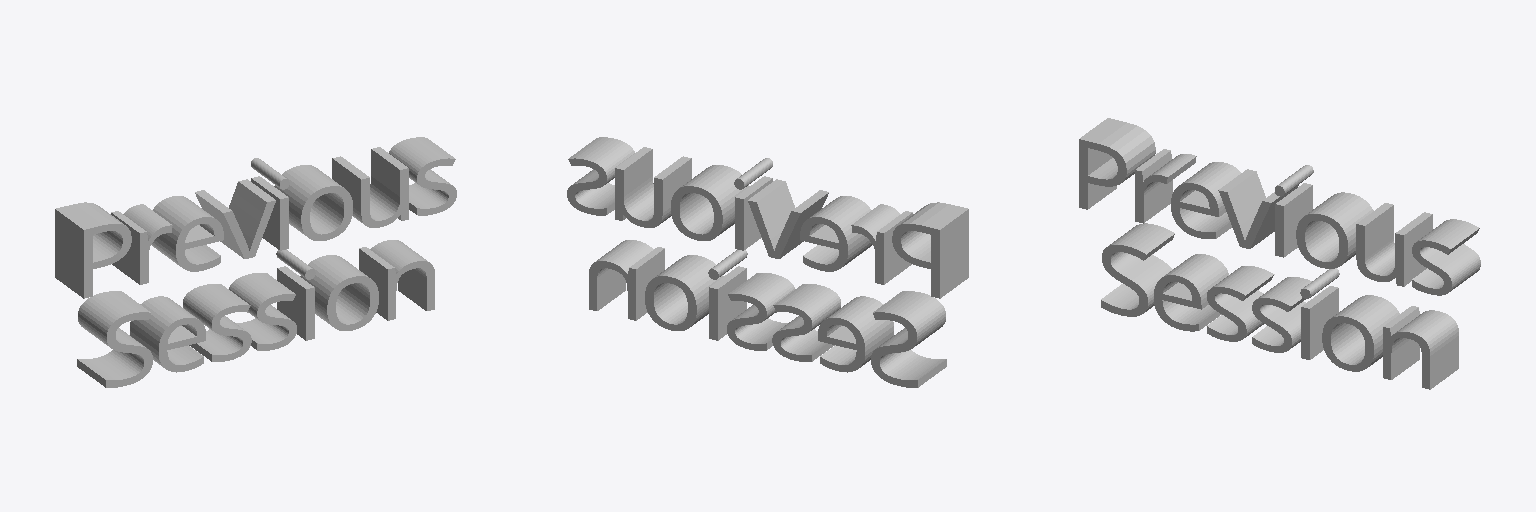
File: previous_text.obj
3 renders of one model, left to right at view 1: azimuth 30°, elevation 25°; view 2: azimuth 150°, elevation 25°; view 3: azimuth 330°, elevation 25°, orthographic.
Visible parts, largest first — view 1: 007_3D_Text_-_P, 000_3D_Text_-_S, 013_3D_Text_-_u, 006_3D_Text_-_n, 012_3D_Text_-_o, 005_3D_Text_-_o, 001_3D_Text_-_e, 009_3D_Text_-_e, 002_3D_Text_-_s, 010_3D_Text_-_v, 003_3D_Text_-_s, 014_3D_Text_-_s (+3 smaller); view 2: 007_3D_Text_-_P, 000_3D_Text_-_S, 013_3D_Text_-_u, 006_3D_Text_-_n, 012_3D_Text_-_o, 005_3D_Text_-_o, 001_3D_Text_-_e, 009_3D_Text_-_e, 002_3D_Text_-_s, 010_3D_Text_-_v, 003_3D_Text_-_s, 014_3D_Text_-_s (+3 smaller); view 3: 006_3D_Text_-_n, 007_3D_Text_-_P, 000_3D_Text_-_S, 013_3D_Text_-_u, 005_3D_Text_-_o, 001_3D_Text_-_e, 012_3D_Text_-_o, 014_3D_Text_-_s, 009_3D_Text_-_e, 002_3D_Text_-_s, 010_3D_Text_-_v, 003_3D_Text_-_s (+3 smaller).
Boxes of the visible parts, x1=… form: 007_3D_Text_-_P: x1=55, y1=202, x2=131, y2=298; 000_3D_Text_-_S: x1=77, y1=291, x2=152, y2=387; 013_3D_Text_-_u: x1=332, y1=147, x2=408, y2=227; 006_3D_Text_-_n: x1=359, y1=240, x2=434, y2=320; 012_3D_Text_-_o: x1=274, y1=165, x2=352, y2=240; 005_3D_Text_-_o: x1=300, y1=255, x2=378, y2=330; 001_3D_Text_-_e: x1=130, y1=296, x2=205, y2=372; 009_3D_Text_-_e: x1=152, y1=196, x2=223, y2=271; 002_3D_Text_-_s: x1=183, y1=284, x2=251, y2=361; 010_3D_Text_-_v: x1=195, y1=179, x2=275, y2=258; 003_3D_Text_-_s: x1=229, y1=273, x2=296, y2=350; 014_3D_Text_-_s: x1=389, y1=137, x2=456, y2=215; 007_3D_Text_-_P: x1=892, y1=202, x2=968, y2=298; 000_3D_Text_-_S: x1=871, y1=291, x2=946, y2=387; 013_3D_Text_-_u: x1=615, y1=147, x2=691, y2=227; 006_3D_Text_-_n: x1=589, y1=240, x2=664, y2=320; 012_3D_Text_-_o: x1=671, y1=165, x2=749, y2=240; 005_3D_Text_-_o: x1=645, y1=255, x2=723, y2=330; 001_3D_Text_-_e: x1=818, y1=296, x2=893, y2=372; 009_3D_Text_-_e: x1=800, y1=196, x2=871, y2=271; 002_3D_Text_-_s: x1=772, y1=284, x2=840, y2=361; 010_3D_Text_-_v: x1=748, y1=179, x2=828, y2=258; 003_3D_Text_-_s: x1=727, y1=273, x2=794, y2=350; 014_3D_Text_-_s: x1=567, y1=137, x2=634, y2=215; 006_3D_Text_-_n: x1=1383, y1=306, x2=1458, y2=389; 007_3D_Text_-_P: x1=1079, y1=118, x2=1155, y2=209; 000_3D_Text_-_S: x1=1101, y1=223, x2=1174, y2=316; 013_3D_Text_-_u: x1=1356, y1=203, x2=1432, y2=286; 005_3D_Text_-_o: x1=1322, y1=295, x2=1399, y2=371; 001_3D_Text_-_e: x1=1154, y1=254, x2=1228, y2=331; 012_3D_Text_-_o: x1=1296, y1=192, x2=1373, y2=268; 014_3D_Text_-_s: x1=1412, y1=219, x2=1480, y2=295; 009_3D_Text_-_e: x1=1171, y1=162, x2=1240, y2=238; 002_3D_Text_-_s: x1=1207, y1=266, x2=1274, y2=341; 010_3D_Text_-_v: x1=1218, y1=169, x2=1298, y2=248; 003_3D_Text_-_s: x1=1252, y1=277, x2=1311, y2=352.
Bounding box in the file's own units: 7.86 × 3.38 × 1.06.